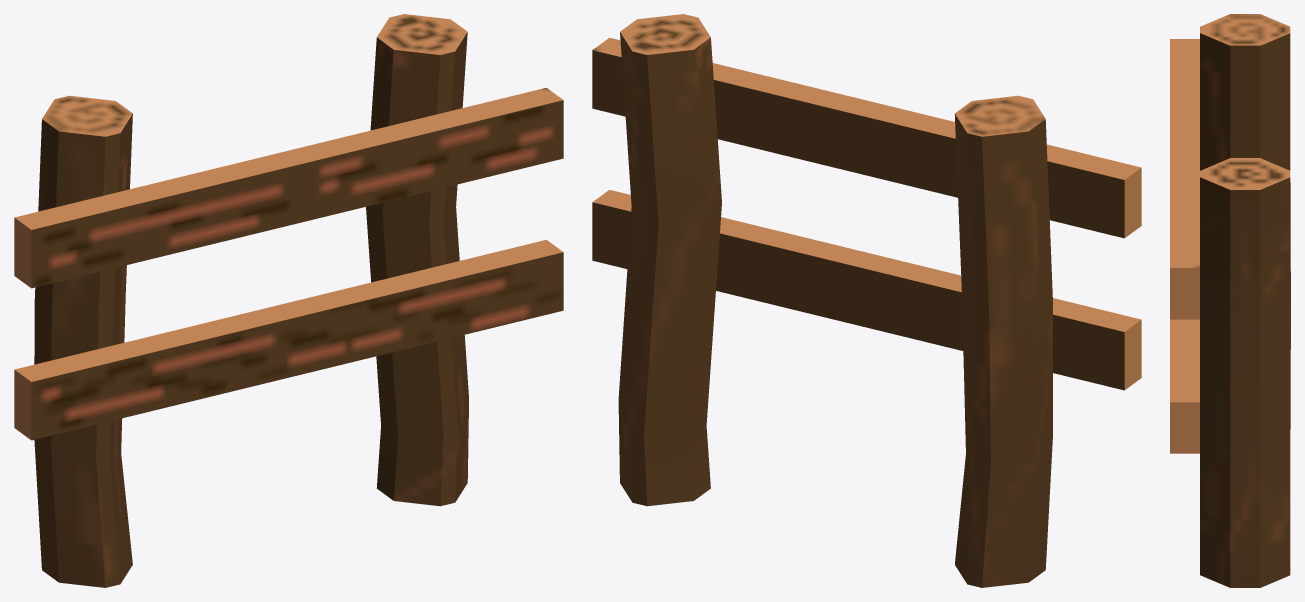
The model's file is Cerca.fbx.
The picture shows the model from 3 angles, left to right: view 1: azimuth 30°, elevation 25°; view 2: azimuth 150°, elevation 25°; view 3: azimuth 270°, elevation 25°; orthographic projection. The views are drawn at different scales.
Parts seen in each view (by area): view 1: Cerca; view 2: Cerca; view 3: Cerca.
Boxes of the visible parts, <box> form: Cerca: <box>14,14,563,587</box>; Cerca: <box>592,14,1141,587</box>; Cerca: <box>1170,14,1290,587</box>.
Size of the model in its own units: 2.27 by 1.84 by 0.506.
